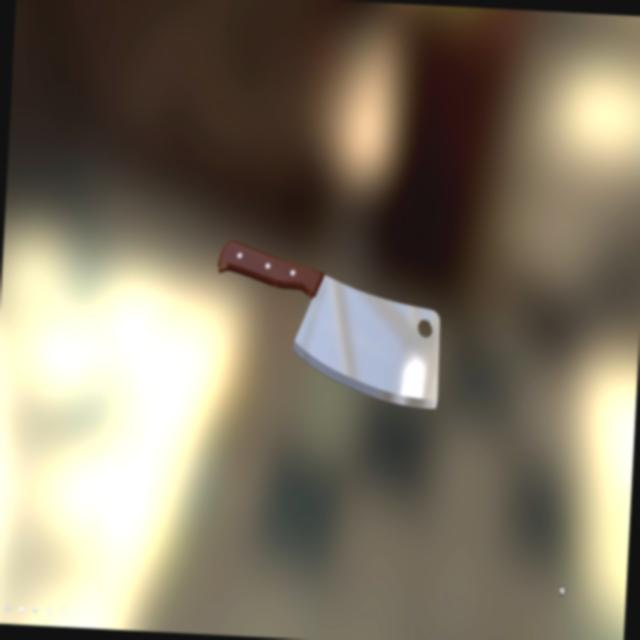cleaver: (207, 235, 448, 433)
